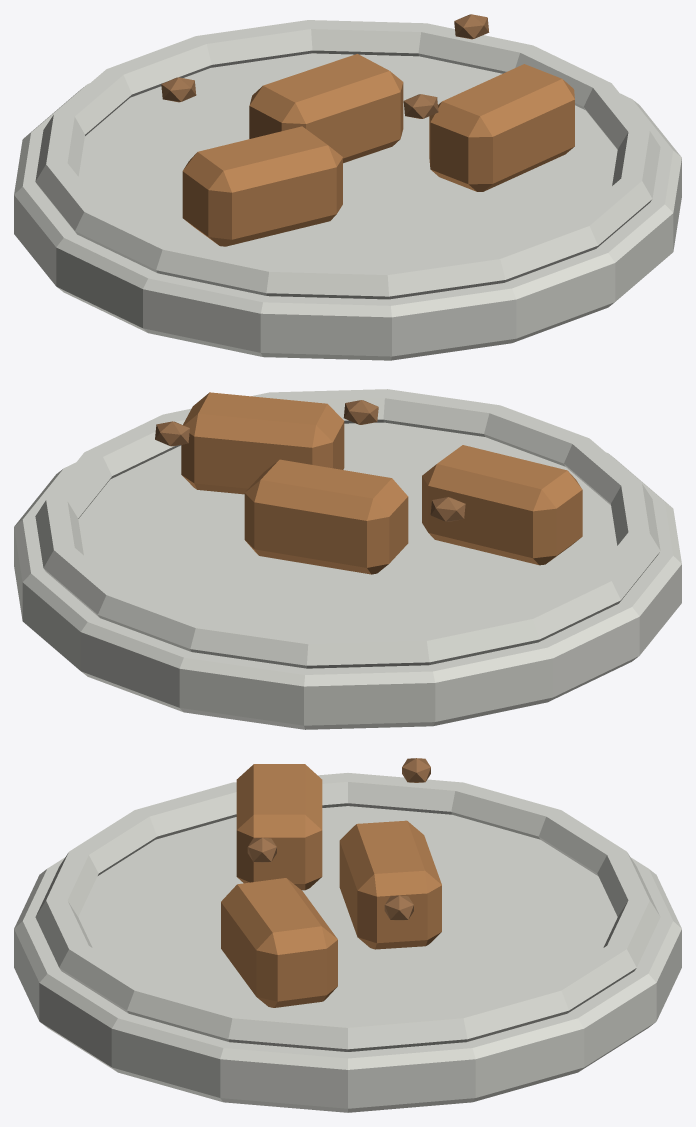
The model's file is nut_energy_bar.glb.
3 renders of one model, top to bottom at view 1: azimuth 30°, elevation 25°; view 2: azimuth 150°, elevation 25°; view 3: azimuth 270°, elevation 25°, orthographic.
Parts seen in each view (by area): view 1: FTF_Dish_NutEnergyBar_StaticMesh; view 2: FTF_Dish_NutEnergyBar_StaticMesh; view 3: FTF_Dish_NutEnergyBar_StaticMesh.
Boxes of the visible parts, x1,y1,x2,y2 form: FTF_Dish_NutEnergyBar_StaticMesh: [14, 14, 681, 360]; FTF_Dish_NutEnergyBar_StaticMesh: [14, 389, 681, 729]; FTF_Dish_NutEnergyBar_StaticMesh: [14, 758, 681, 1112].
Bounding box in the file's own units: 0.78 × 0.196 × 0.78.
